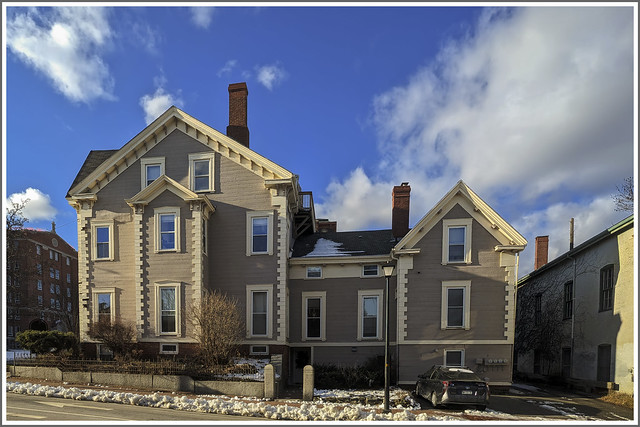low: (63, 80, 291, 397), (292, 177, 524, 396)
